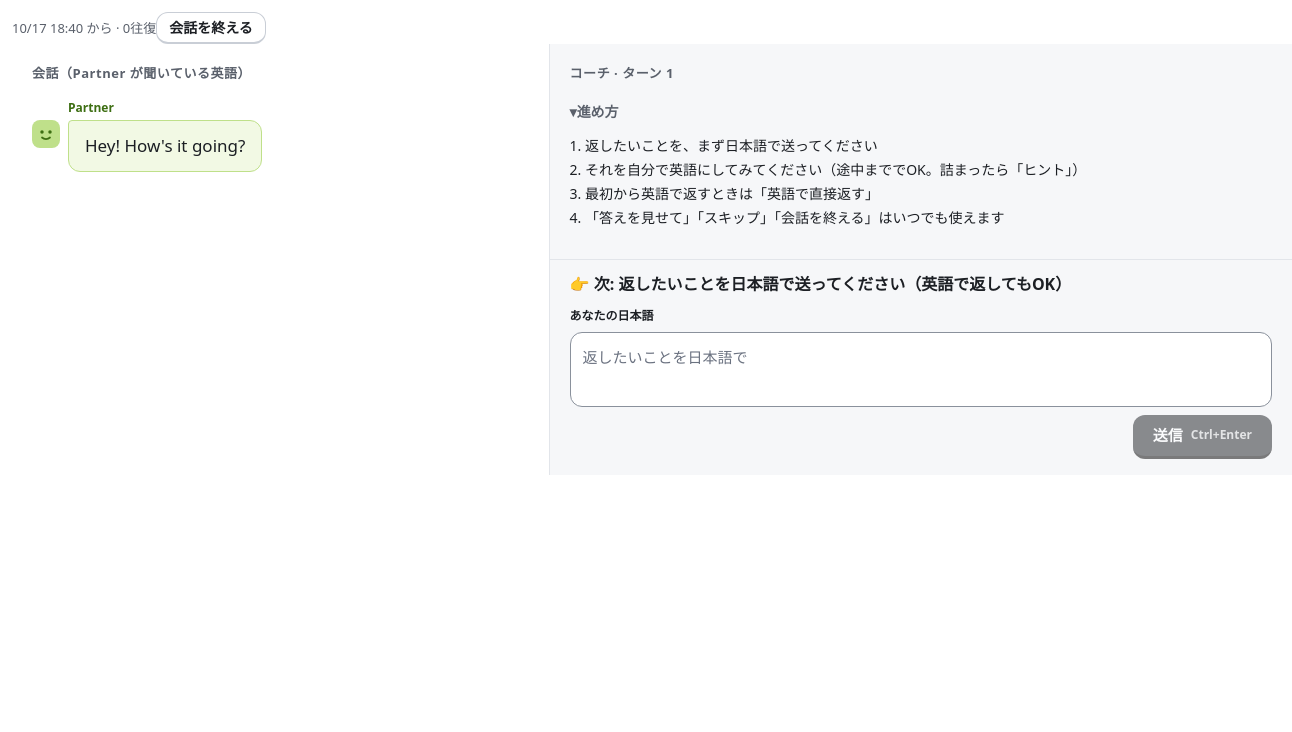
Test: Composer on the conversation screen (REQ-005) › keeps the text when the server cannot be reached
Type "久しぶりに映画を見た" into the text box labelled "あなたの日本語".
click(921, 369); type("久しぶりに映画を見た")  # box x1=570 y1=332 x2=1272 y2=406
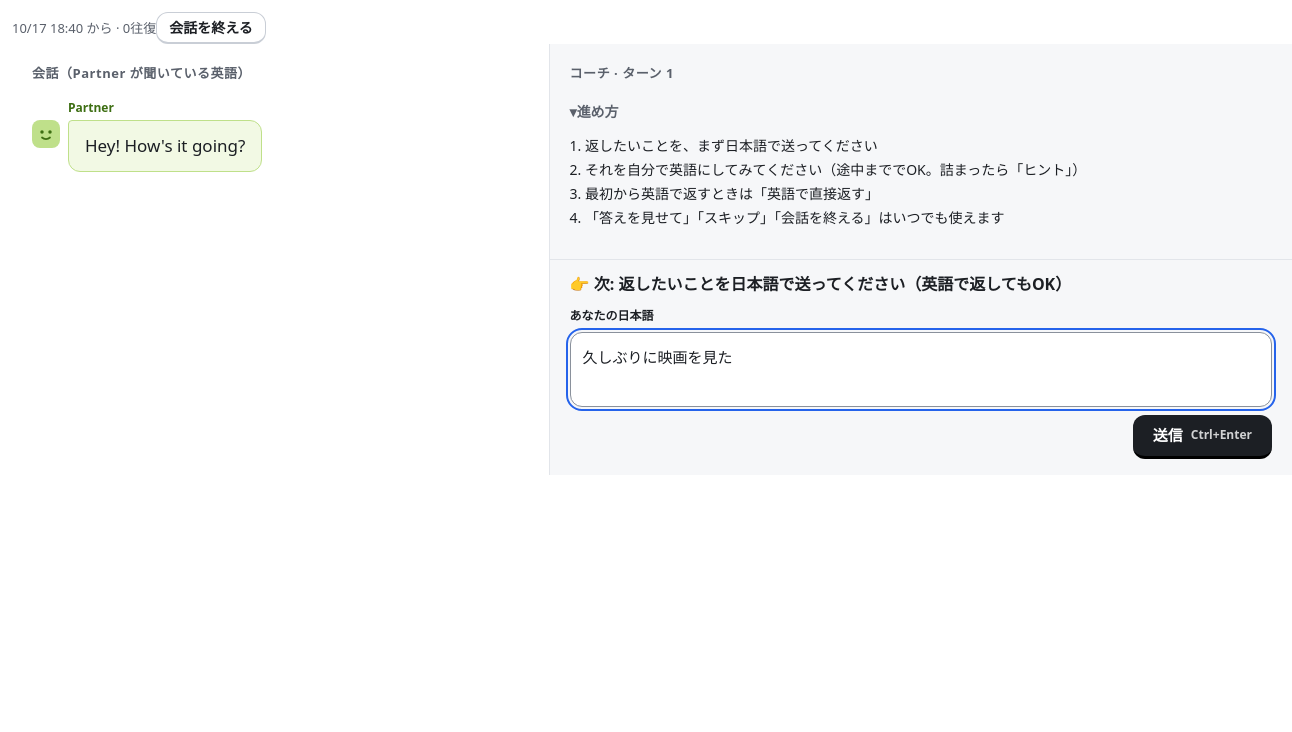
Type keys "{Meta>}{Enter}{/Meta}"
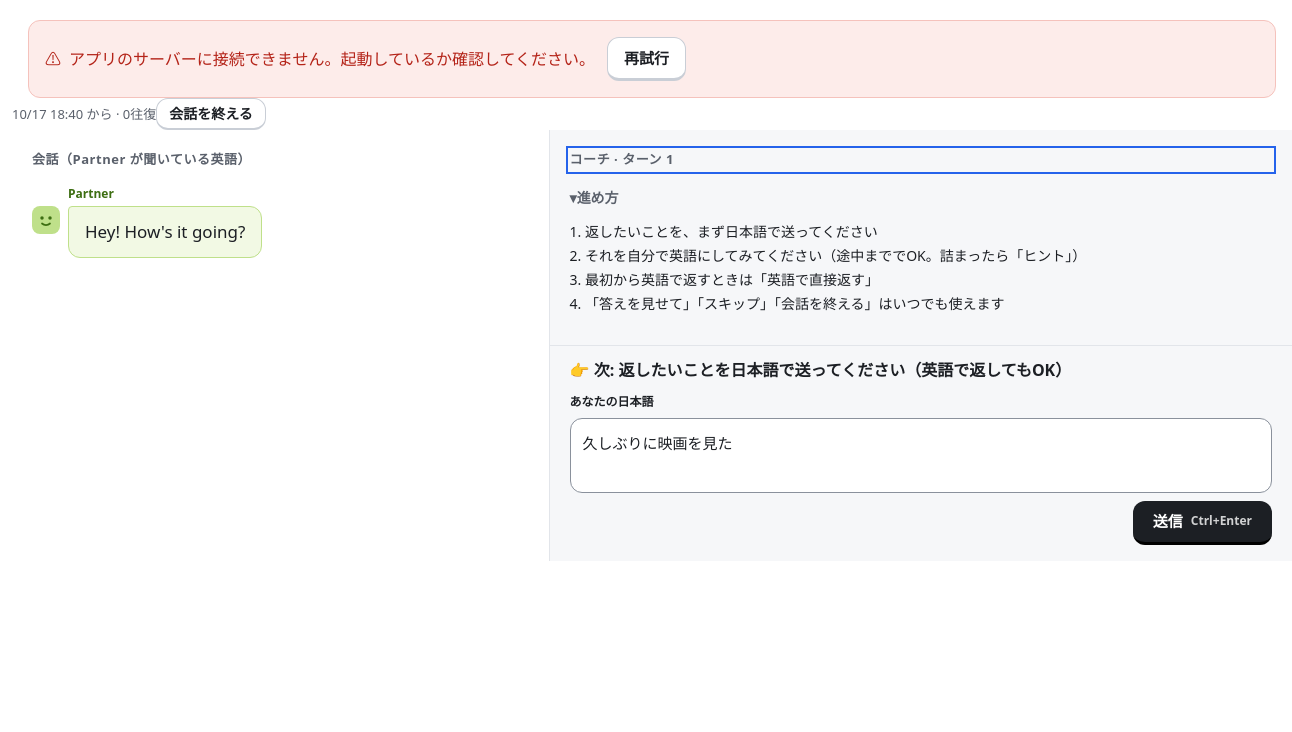
Expected: the text box labelled "あなたの日本語" is enabled, x1=570 y1=418 x2=1272 y2=492
Now the message "⚠ アプリのサーバーに接続できません。起動しているか確認してください。 再試行" is shown, box x1=28 y1=20 x2=1276 y2=98
